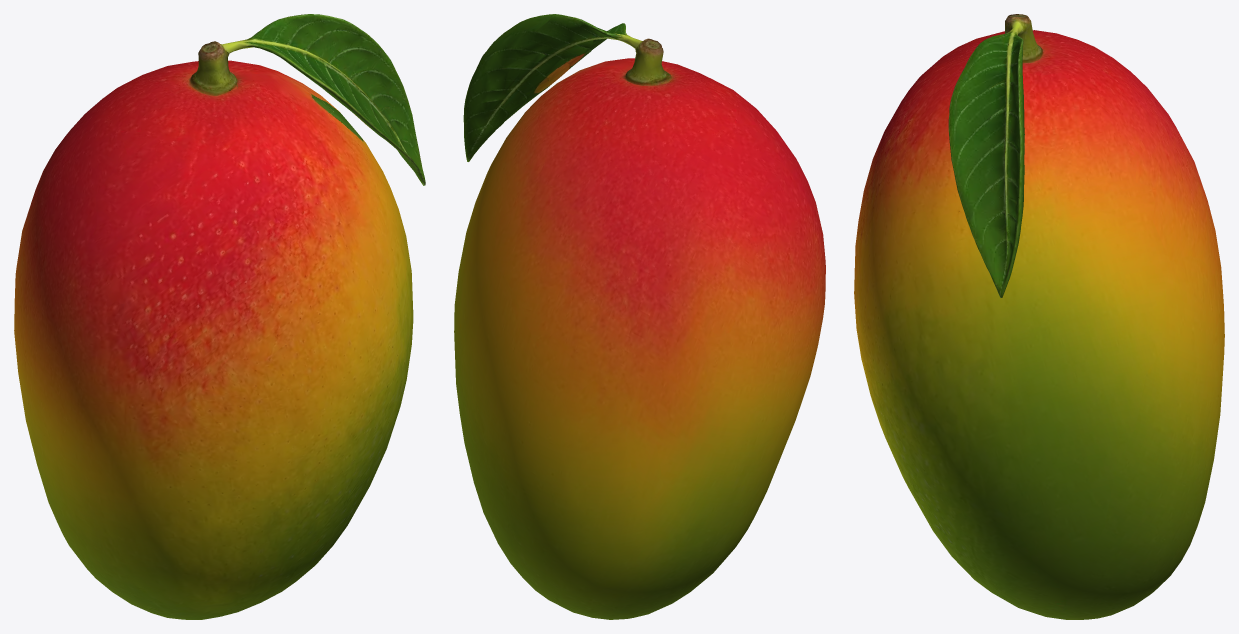
Rendered from mango.glb.
3 views of the same model, side by side, from view 1: azimuth 30°, elevation 25°; view 2: azimuth 150°, elevation 25°; view 3: azimuth 270°, elevation 25° (orthographic). The views are drawn at different scales.
Visible parts, largest first — view 1: Model; view 2: Model; view 3: Model.
Part boxes in pixels (x1,y1,x2,y2): Model: [14, 14, 425, 619]; Model: [454, 14, 825, 619]; Model: [854, 14, 1224, 619].
Bounding box in the file's own units: 1.24 × 1.9 × 1.07.
Materials: 1 (1 with a texture image).
